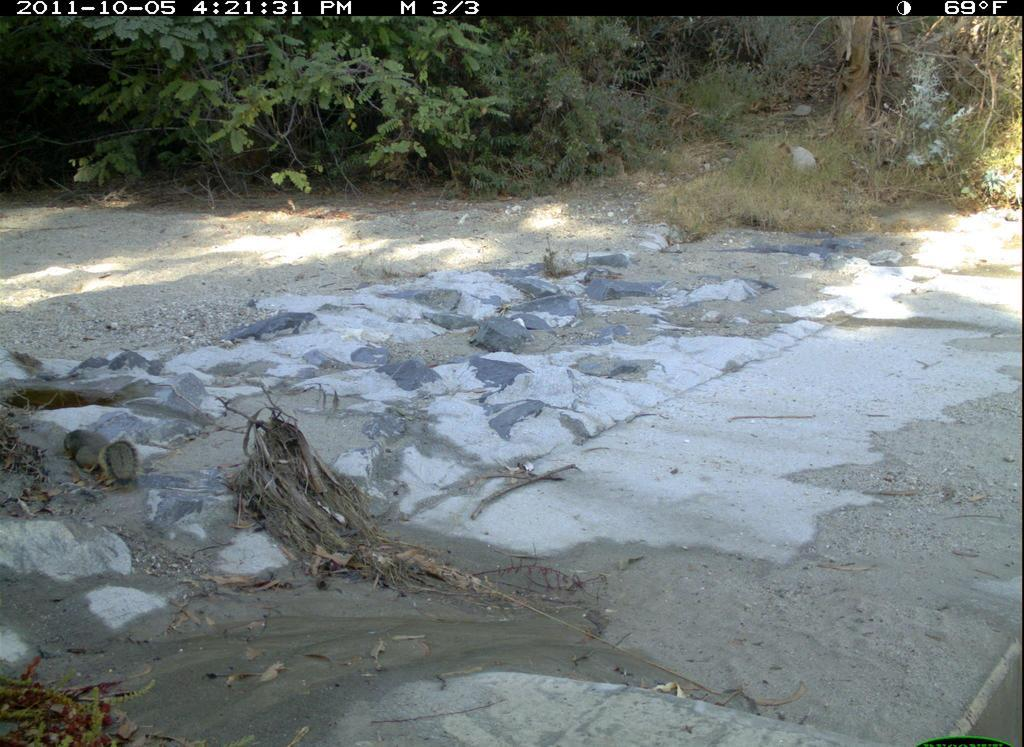squirrel: (63, 425, 143, 488)
